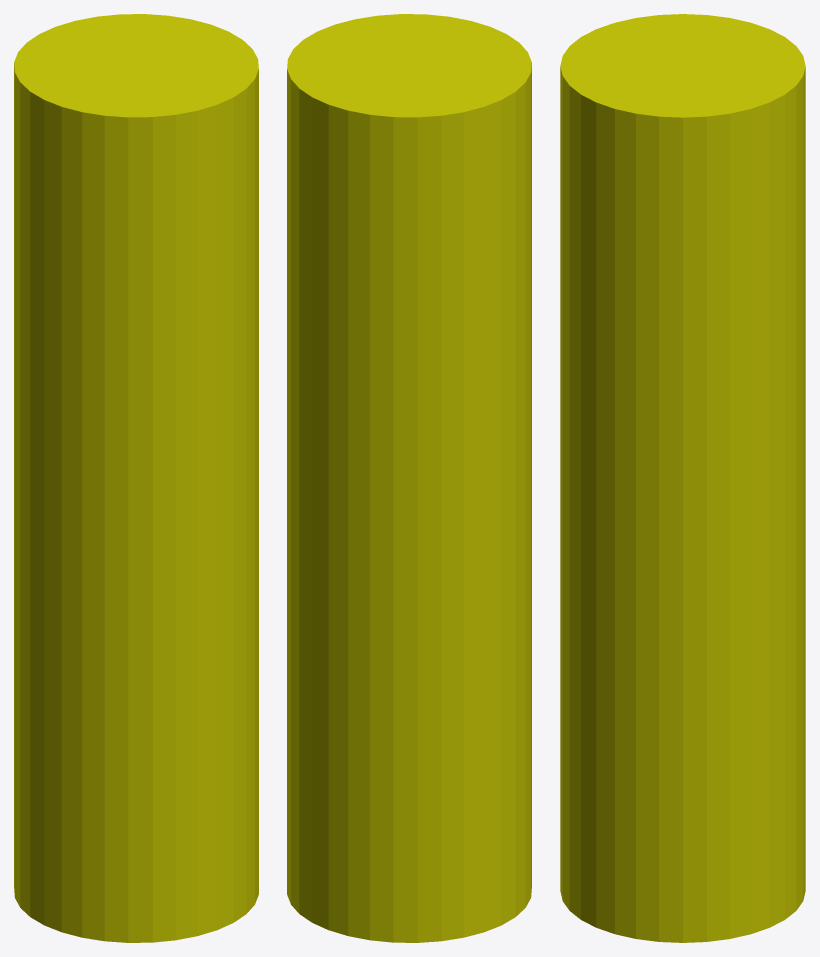
File: bluedeskchair-collider.dae
3 views of the same model, side by side, from view 1: azimuth 30°, elevation 25°; view 2: azimuth 150°, elevation 25°; view 3: azimuth 270°, elevation 25° (orthographic).
Visible parts, largest first — view 1: Cylinder; view 2: Cylinder; view 3: Cylinder.
Boxes of the visible parts, x1,y1,x2,y2 form: Cylinder: [14, 14, 258, 942]; Cylinder: [287, 14, 531, 942]; Cylinder: [560, 14, 805, 942].
Size of what is drawn, in the model's own units: 0.0839 by 0.0839 by 0.3117.
